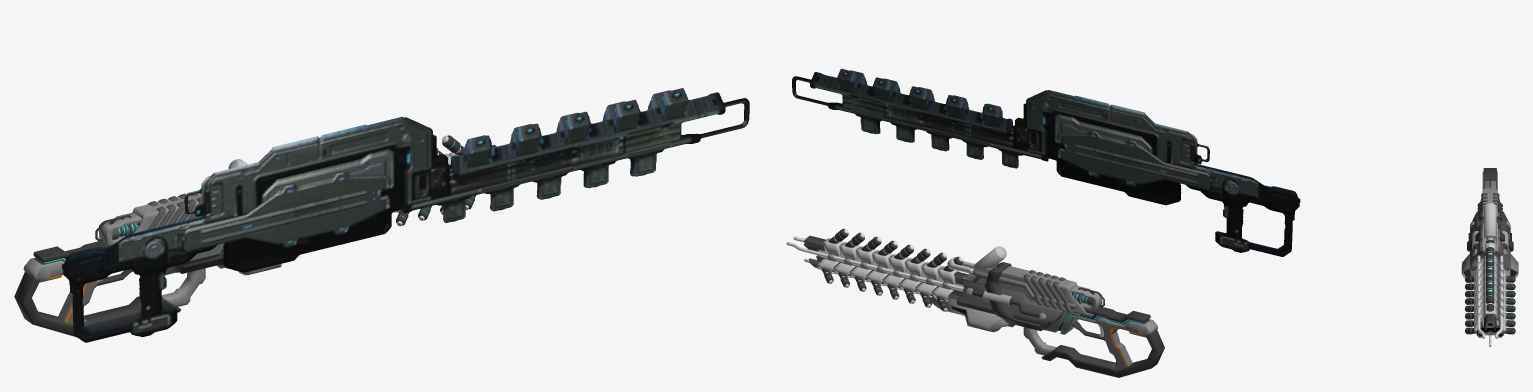
Rendered from amprex electro gun.fbx.
3 views of the same model, side by side, from view 1: azimuth 30°, elevation 25°; view 2: azimuth 150°, elevation 25°; view 3: azimuth 270°, elevation 25° (orthographic). The views are drawn at different scales.
Visible parts, largest first — view 1: Model, Component_59_1, Component_72_1, Component_61_1, Component_57_1, Component_70_1, Component_69_1, Component_65_1, Component_62_1; view 2: Model, Component_59_1, Component_77_1, Component_72_1, Group56, Component_61_1, Component_63_1, Component_51_1, Component_69_1, Component_70_1, Component_62_1, Component_54_1 (+11 smaller); view 3: Component_77_1, Component_54_1, Component_38_1, Component_72_1, Group56, Component_63_1, Component_80_1, Component_61_1, Component_79_1, Component_70_1, Component_80_4, Component_80_8 (+7 smaller).
Boxes of the visible parts, left/top/right/bottom form: Model: left=62, top=88, right=749, bottom=342; Component_59_1: left=14, top=271, right=181, bottom=337; Component_72_1: left=132, top=193, right=201, bottom=275; Component_61_1: left=147, top=193, right=201, bottom=229; Component_57_1: left=161, top=268, right=205, bottom=306; Component_70_1: left=33, top=241, right=108, bottom=264; Component_69_1: left=23, top=257, right=64, bottom=281; Component_65_1: left=99, top=212, right=142, bottom=245; Component_62_1: left=39, top=274, right=97, bottom=323; Model: left=792, top=68, right=1300, bottom=256; Component_59_1: left=1041, top=329, right=1164, bottom=377; Component_77_1: left=956, top=278, right=1063, bottom=330; Component_72_1: left=963, top=263, right=1093, bottom=332; Group56: left=803, top=235, right=967, bottom=299; Component_61_1: left=1023, top=270, right=1074, bottom=312; Component_63_1: left=984, top=262, right=1042, bottom=330; Component_51_1: left=947, top=297, right=1009, bottom=332; Component_69_1: left=1060, top=314, right=1157, bottom=336; Component_70_1: left=1057, top=307, right=1150, bottom=330; Component_62_1: left=1099, top=324, right=1146, bottom=369; Component_54_1: left=786, top=236, right=963, bottom=294; Component_77_1: left=1470, top=211, right=1510, bottom=270; Component_54_1: left=1477, top=255, right=1503, bottom=346; Component_38_1: left=1483, top=203, right=1496, bottom=240; Component_72_1: left=1482, top=188, right=1497, bottom=257; Group56: left=1476, top=252, right=1503, bottom=337; Component_63_1: left=1467, top=216, right=1513, bottom=251; Component_80_1: left=1474, top=306, right=1506, bottom=335; Component_61_1: left=1477, top=193, right=1502, bottom=220; Component_79_1: left=1471, top=225, right=1508, bottom=249; Component_70_1: left=1483, top=168, right=1496, bottom=188; Component_80_4: left=1474, top=269, right=1506, bottom=294; Component_80_8: left=1474, top=291, right=1506, bottom=316.
Bounding box in the file's own units: 228 × 82.42 × 76.64.
